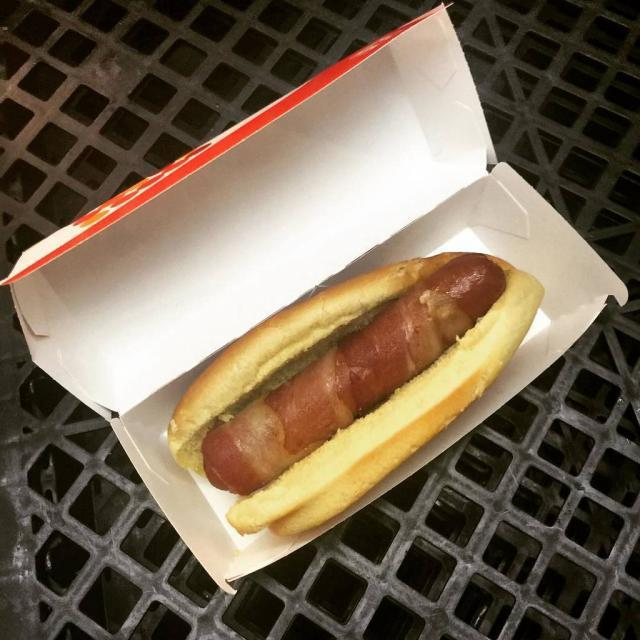Hot dog: (160, 243, 550, 541)
